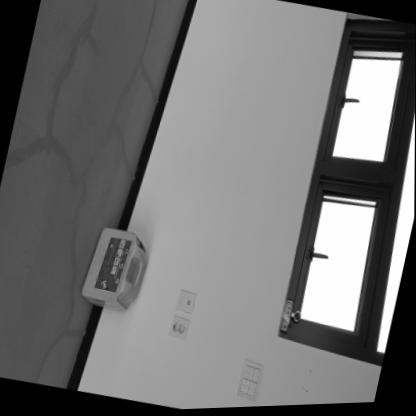DDL: (77, 224, 153, 315)
